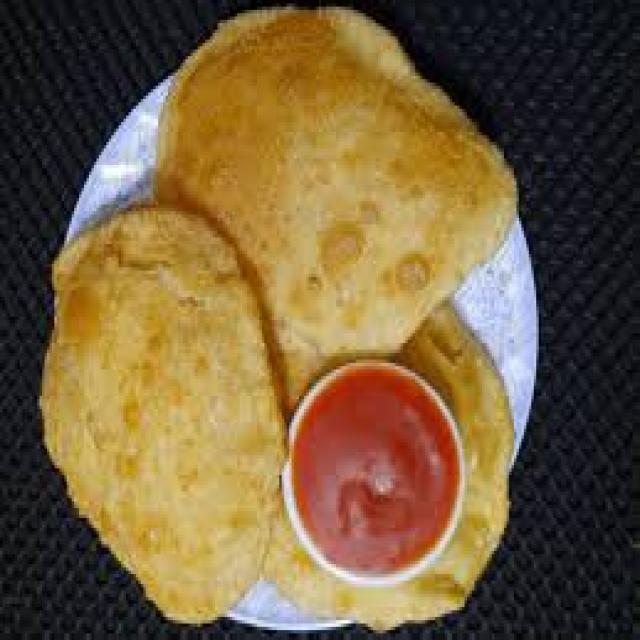puri: (125, 53, 506, 340), (57, 243, 272, 606)
